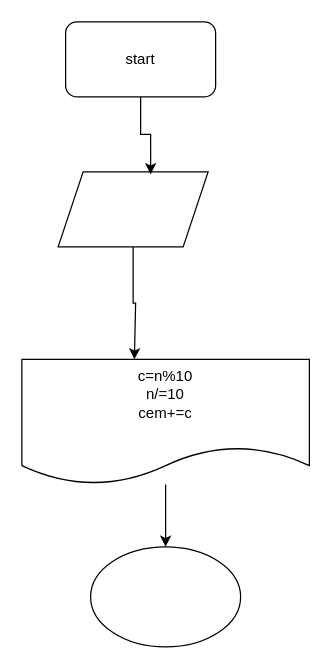
This 331x669 diagram has some shape labels left out. Each missing label, with the centre of its shape:
"end" belongs at point 165,596.
"int n,cem=0,c" belongs at point 132,209.
